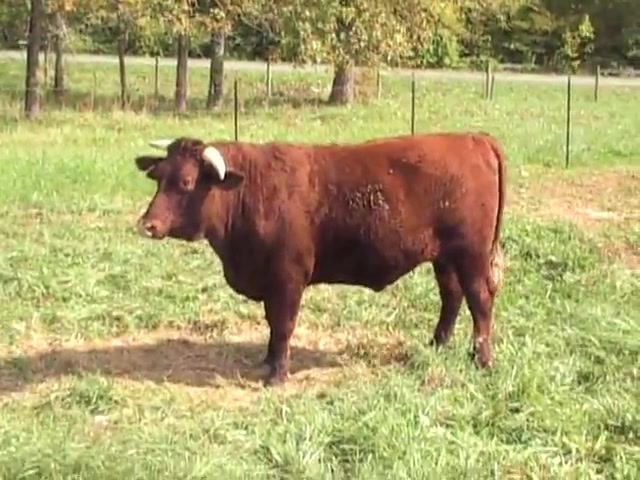cow: (136, 129, 509, 391)
